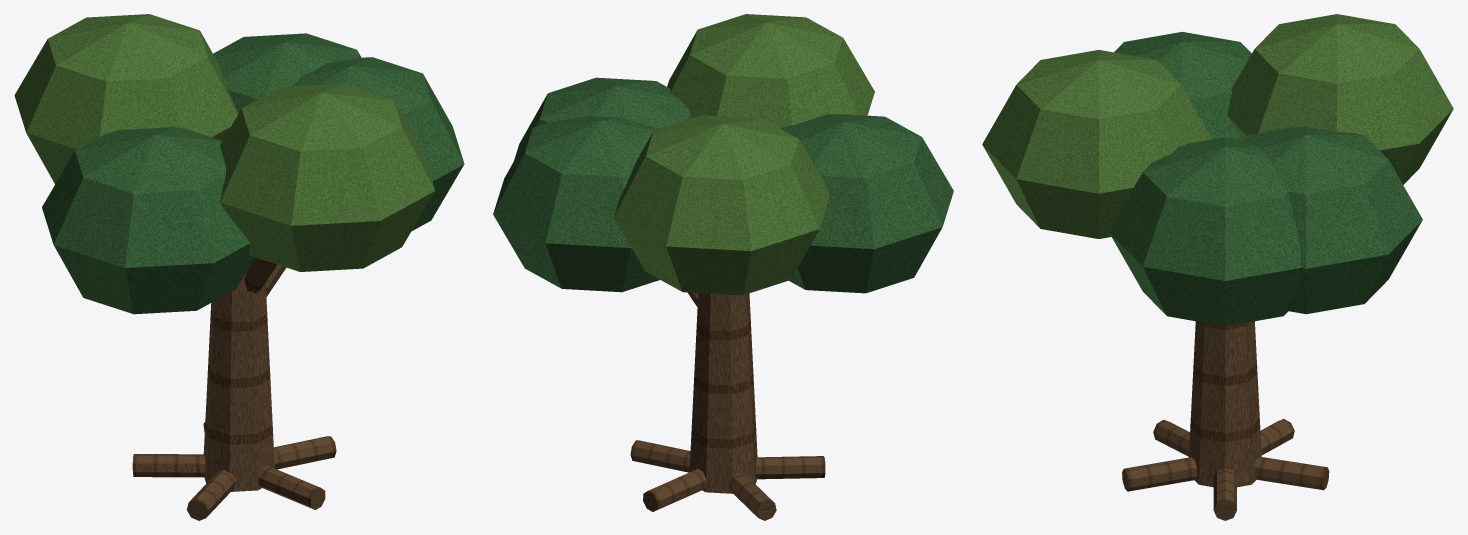
Rendered from oak_tree.glb.
3 renders of one model, left to right at view 1: azimuth 30°, elevation 25°; view 2: azimuth 150°, elevation 25°; view 3: azimuth 270°, elevation 25°, orthographic. The views are drawn at different scales.
Parts seen in each view (by area): view 1: canopy (×5), trunk, root (×4), branch; view 2: canopy (×5), trunk, root (×4); view 3: canopy (×5), trunk, root (×5).
Part boxes in pixels (x1=…): canopy (×5): x1=14, y1=14, x2=464, y2=314; trunk: x1=203, y1=268, x2=274, y2=491; root (×4): x1=132, y1=436, x2=336, y2=520; branch: x1=244, y1=257, x2=277, y2=293; canopy (×5): x1=493, y1=14, x2=953, y2=295; trunk: x1=689, y1=293, x2=757, y2=493; root (×4): x1=630, y1=440, x2=825, y2=520; canopy (×5): x1=982, y1=14, x2=1453, y2=326; trunk: x1=1189, y1=321, x2=1261, y2=487; root (×5): x1=1122, y1=419, x2=1329, y2=520.
Size of the model in its own units: 4.14 by 4.03 by 4.04.
1 material, 1 textured.
